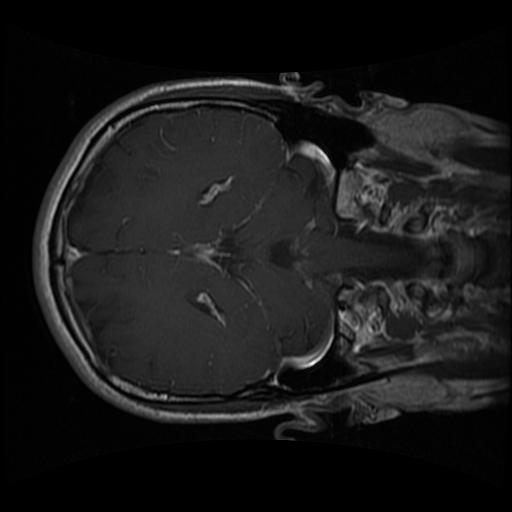glioma: (266, 235, 312, 274)
